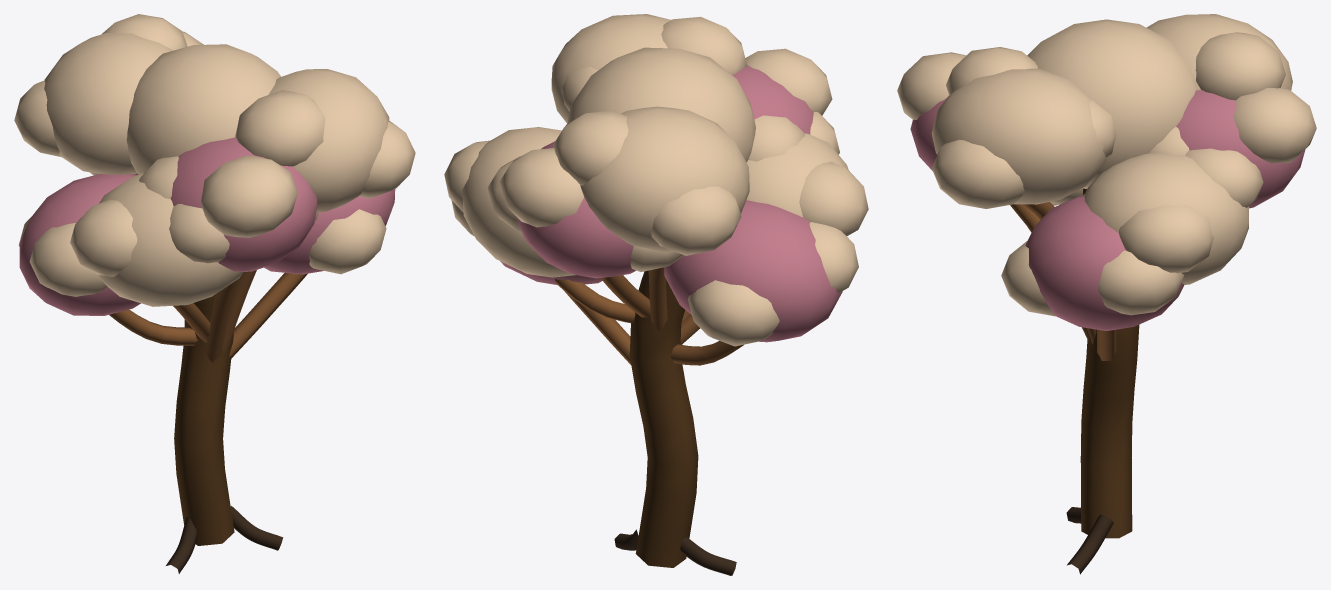
Rendered from mia-tree.glb.
3 renders of one model, left to right at view 1: azimuth 30°, elevation 25°; view 2: azimuth 150°, elevation 25°; view 3: azimuth 270°, elevation 25°, orthographic. The views are drawn at different scales.
Parts seen in each view (by area): view 1: Body_face, Body_cake-rose, Body_wood, Body_oak, Body_grain; view 2: Body_face, Body_cake-rose, Body_wood, Body_oak, Body_grain; view 3: Body_face, Body_cake-rose, Body_wood, Body_oak, Body_grain.
Boxes of the visible parts, bbox=[...] form: Body_face: bbox=[14, 14, 415, 306]; Body_cake-rose: bbox=[19, 137, 395, 315]; Body_wood: bbox=[174, 294, 234, 545]; Body_oak: bbox=[109, 270, 307, 362]; Body_grain: bbox=[166, 506, 283, 573]; Body_face: bbox=[444, 14, 868, 346]; Body_cake-rose: bbox=[500, 65, 842, 342]; Body_wood: bbox=[629, 270, 698, 567]; Body_oak: bbox=[555, 267, 743, 365]; Body_grain: bbox=[614, 529, 736, 575]; Body_face: bbox=[897, 14, 1316, 316]; Body_cake-rose: bbox=[910, 90, 1305, 330]; Body_wood: bbox=[1080, 188, 1139, 538]; Body_oak: bbox=[1010, 202, 1116, 360]; Body_grain: bbox=[1066, 507, 1113, 574].
Size of the model in its own units: 2.49 by 3.25 by 2.39.
